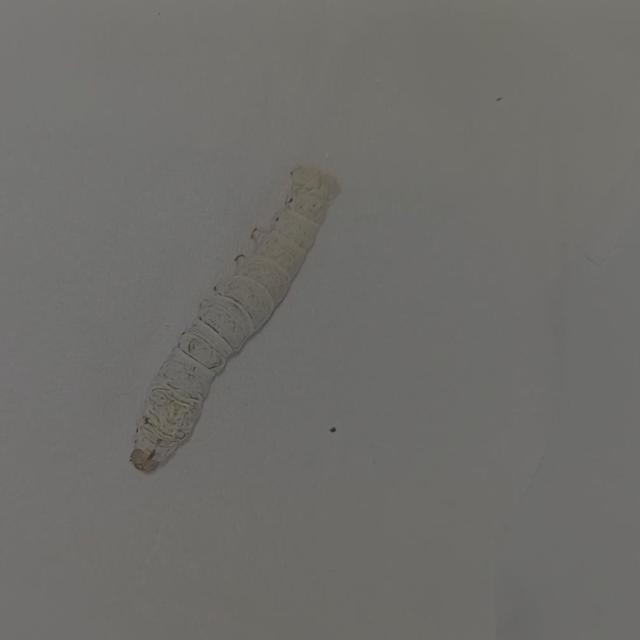Healthy: (102, 140, 368, 494)
